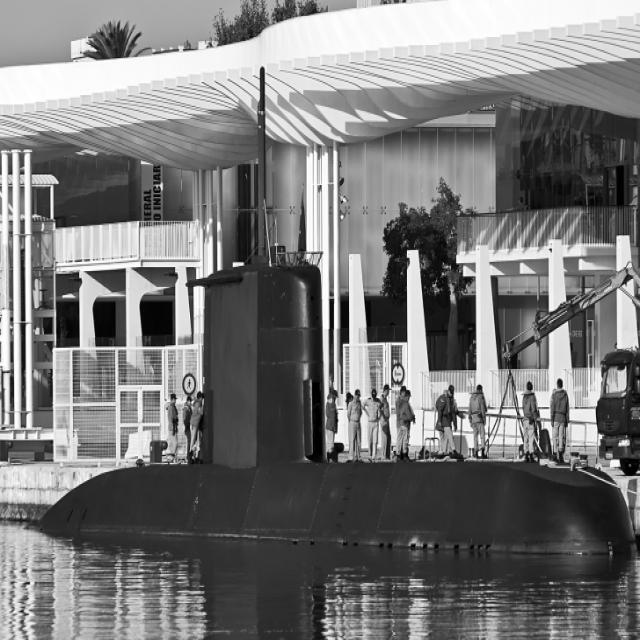submarine: (1, 55, 640, 559)
